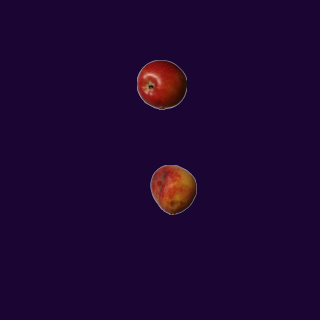Apple Braeburn: (136, 59, 186, 109)
Peach: (148, 164, 198, 214)
